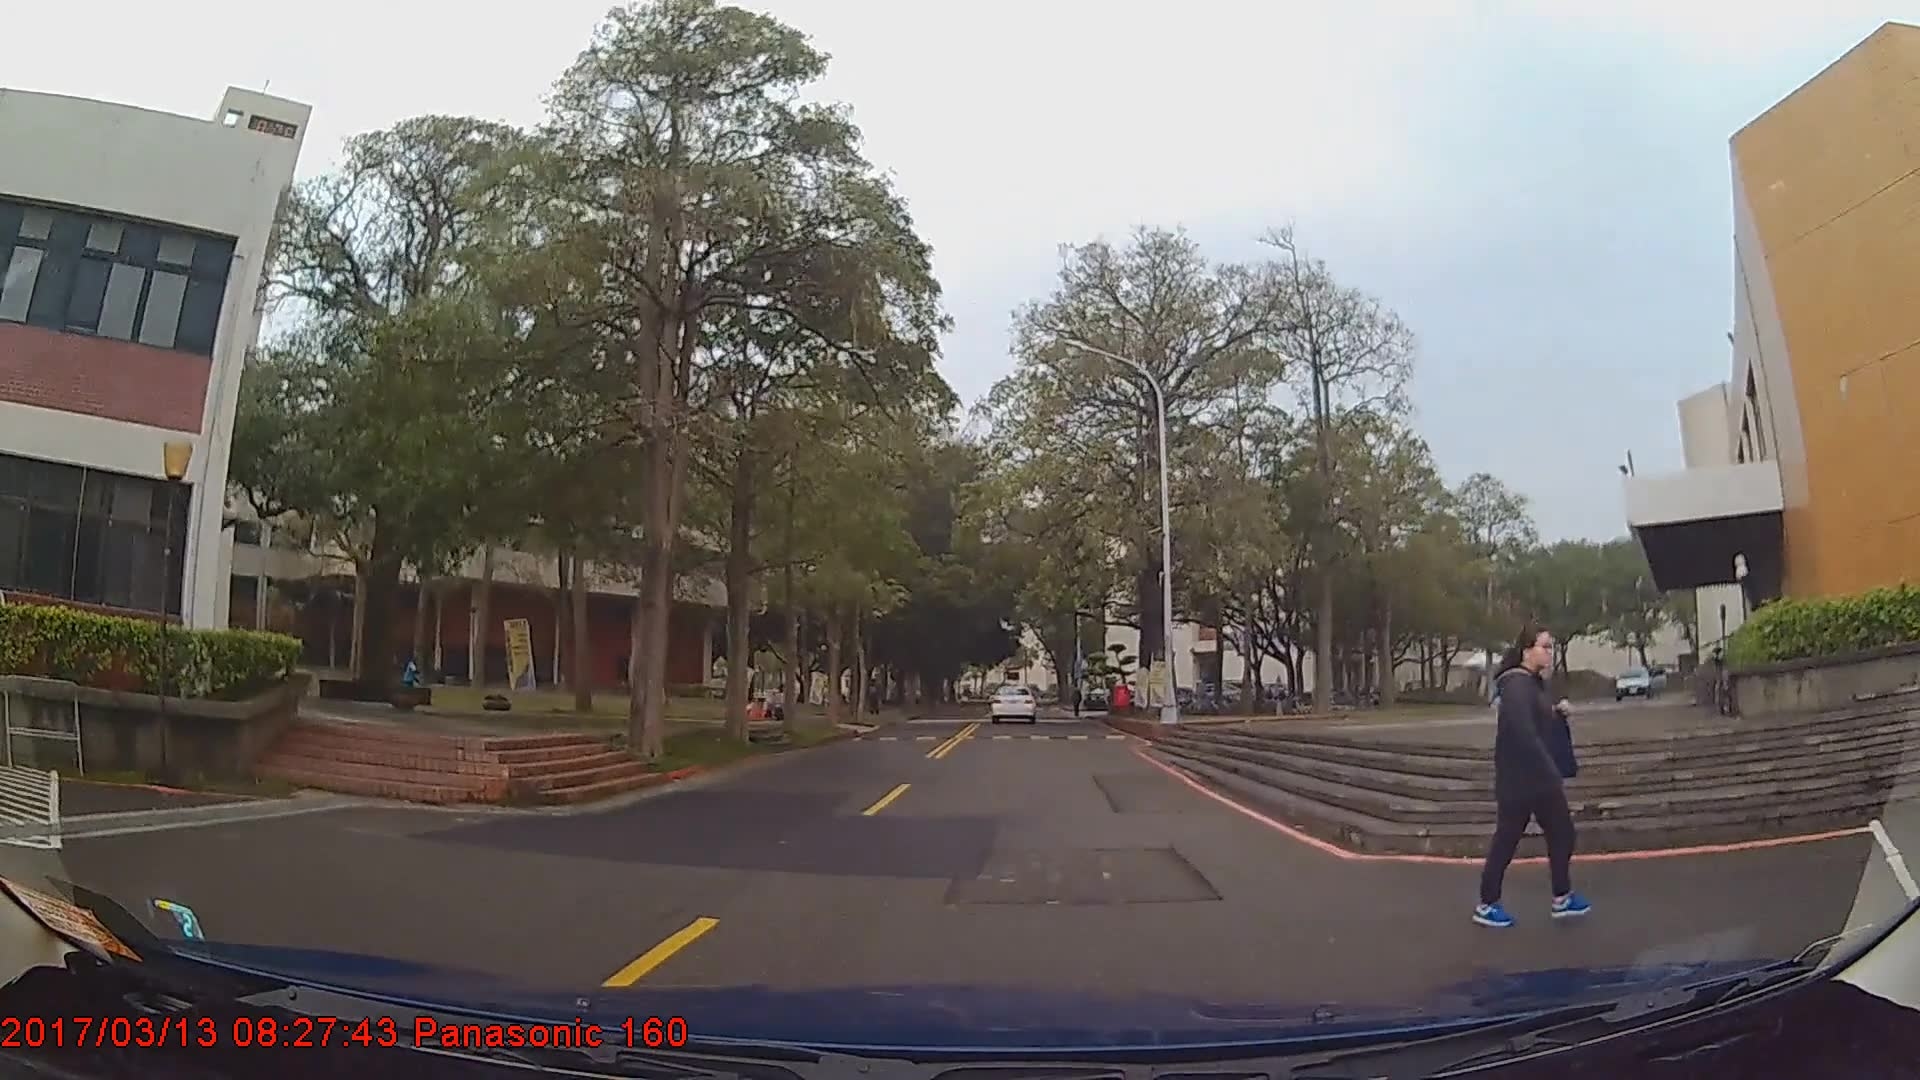pedestrian: (1457, 625, 1597, 932)
vehicle: (1609, 666, 1668, 702), (986, 673, 1034, 716)
